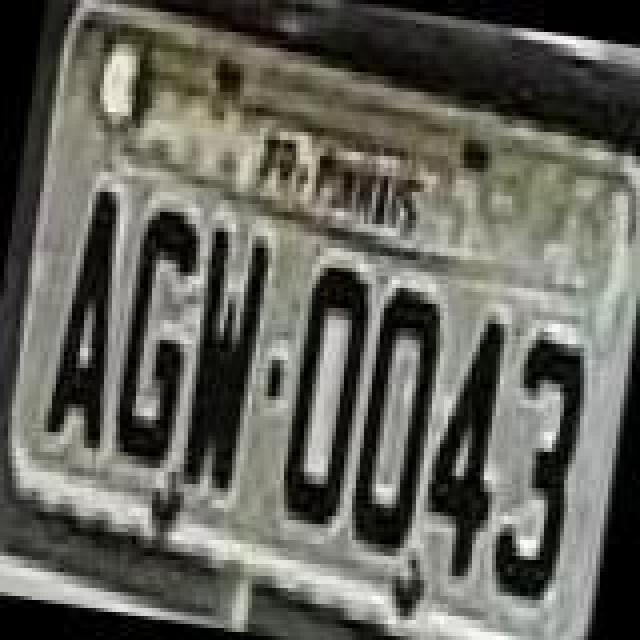3: (482, 328, 598, 608)
4: (412, 310, 524, 586)
A: (36, 182, 140, 458)
G: (102, 200, 210, 472)
O: (340, 278, 452, 562), (272, 256, 384, 536)
W: (172, 222, 276, 498)
